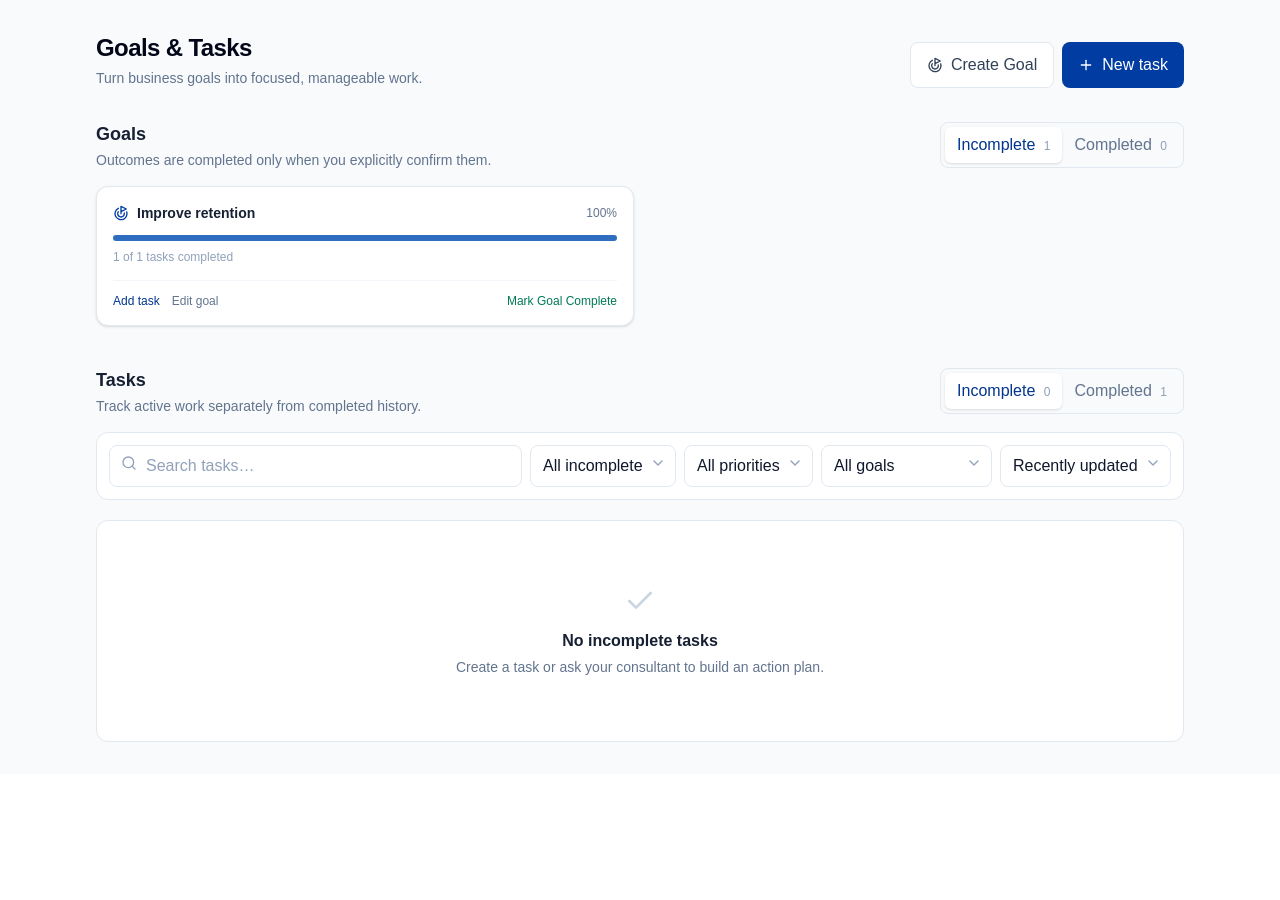
Test: persisted task and goal management › completes a goal immediately when all related tasks are already complete
The width and height of the screenshot is (1280, 900).
Click the button "Mark Goal Complete" at point(562, 301), box [507,293,617,309]
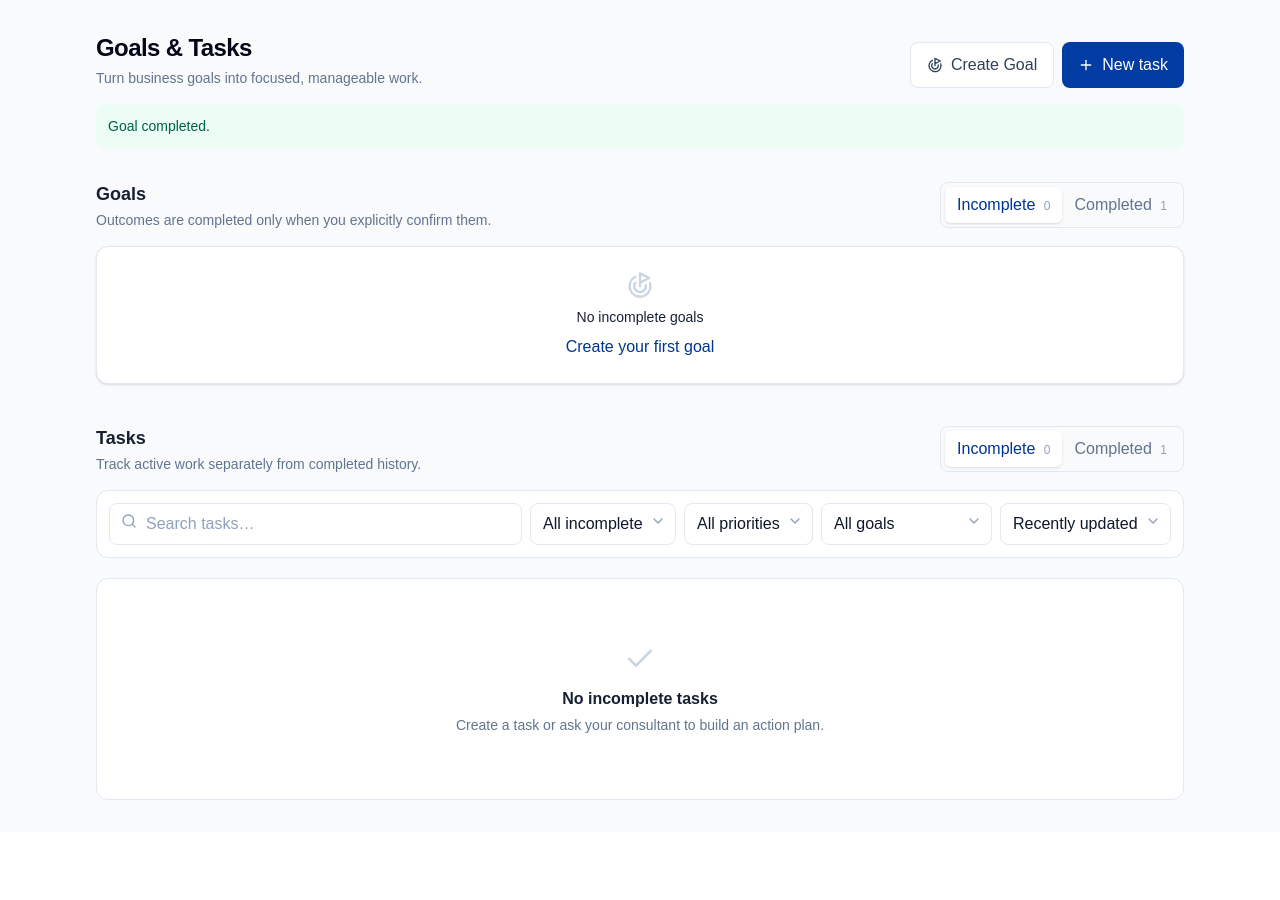
Now the text "Goal completed." is shown, box [96,104,1184,148]
